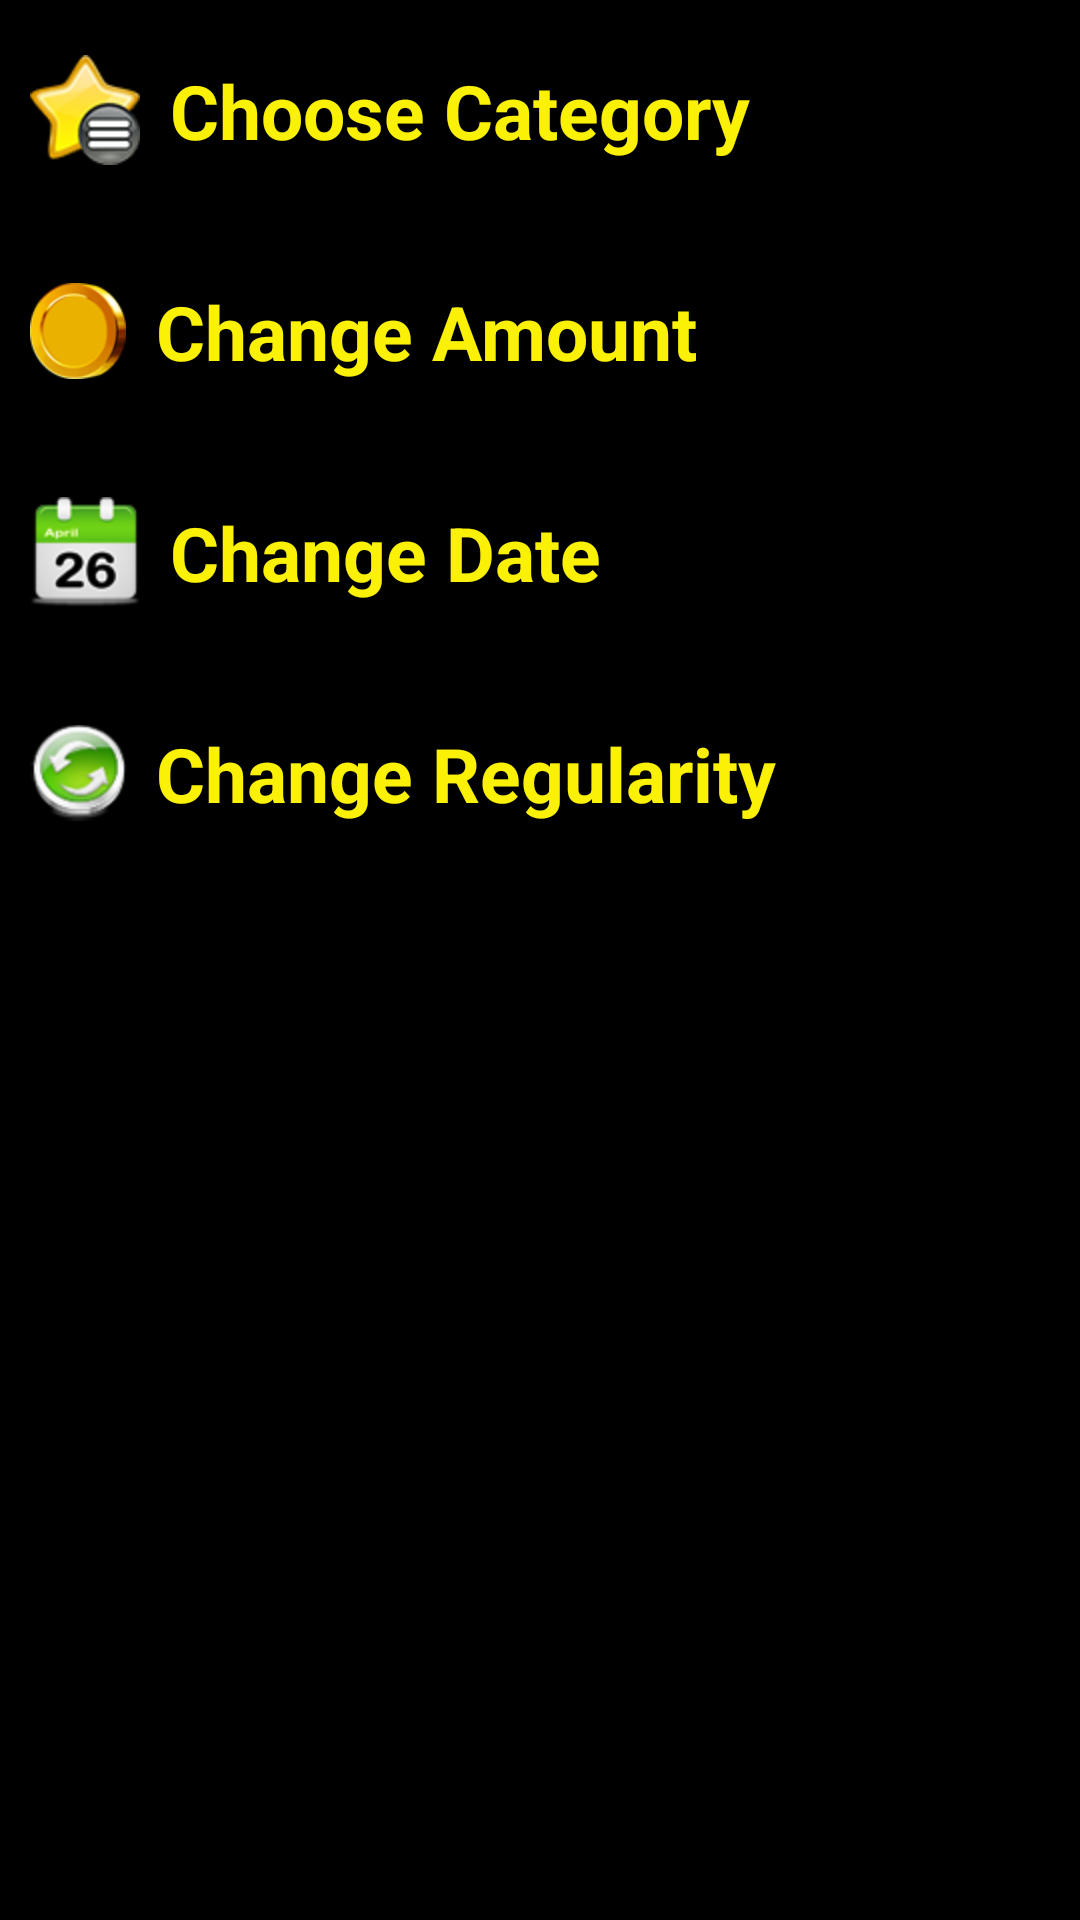

Screen size 1080×1920. Icon name, then its center in pixels as (x,y):
categories: (85,110)
coin: (78,331)
repeat: (79,772)
